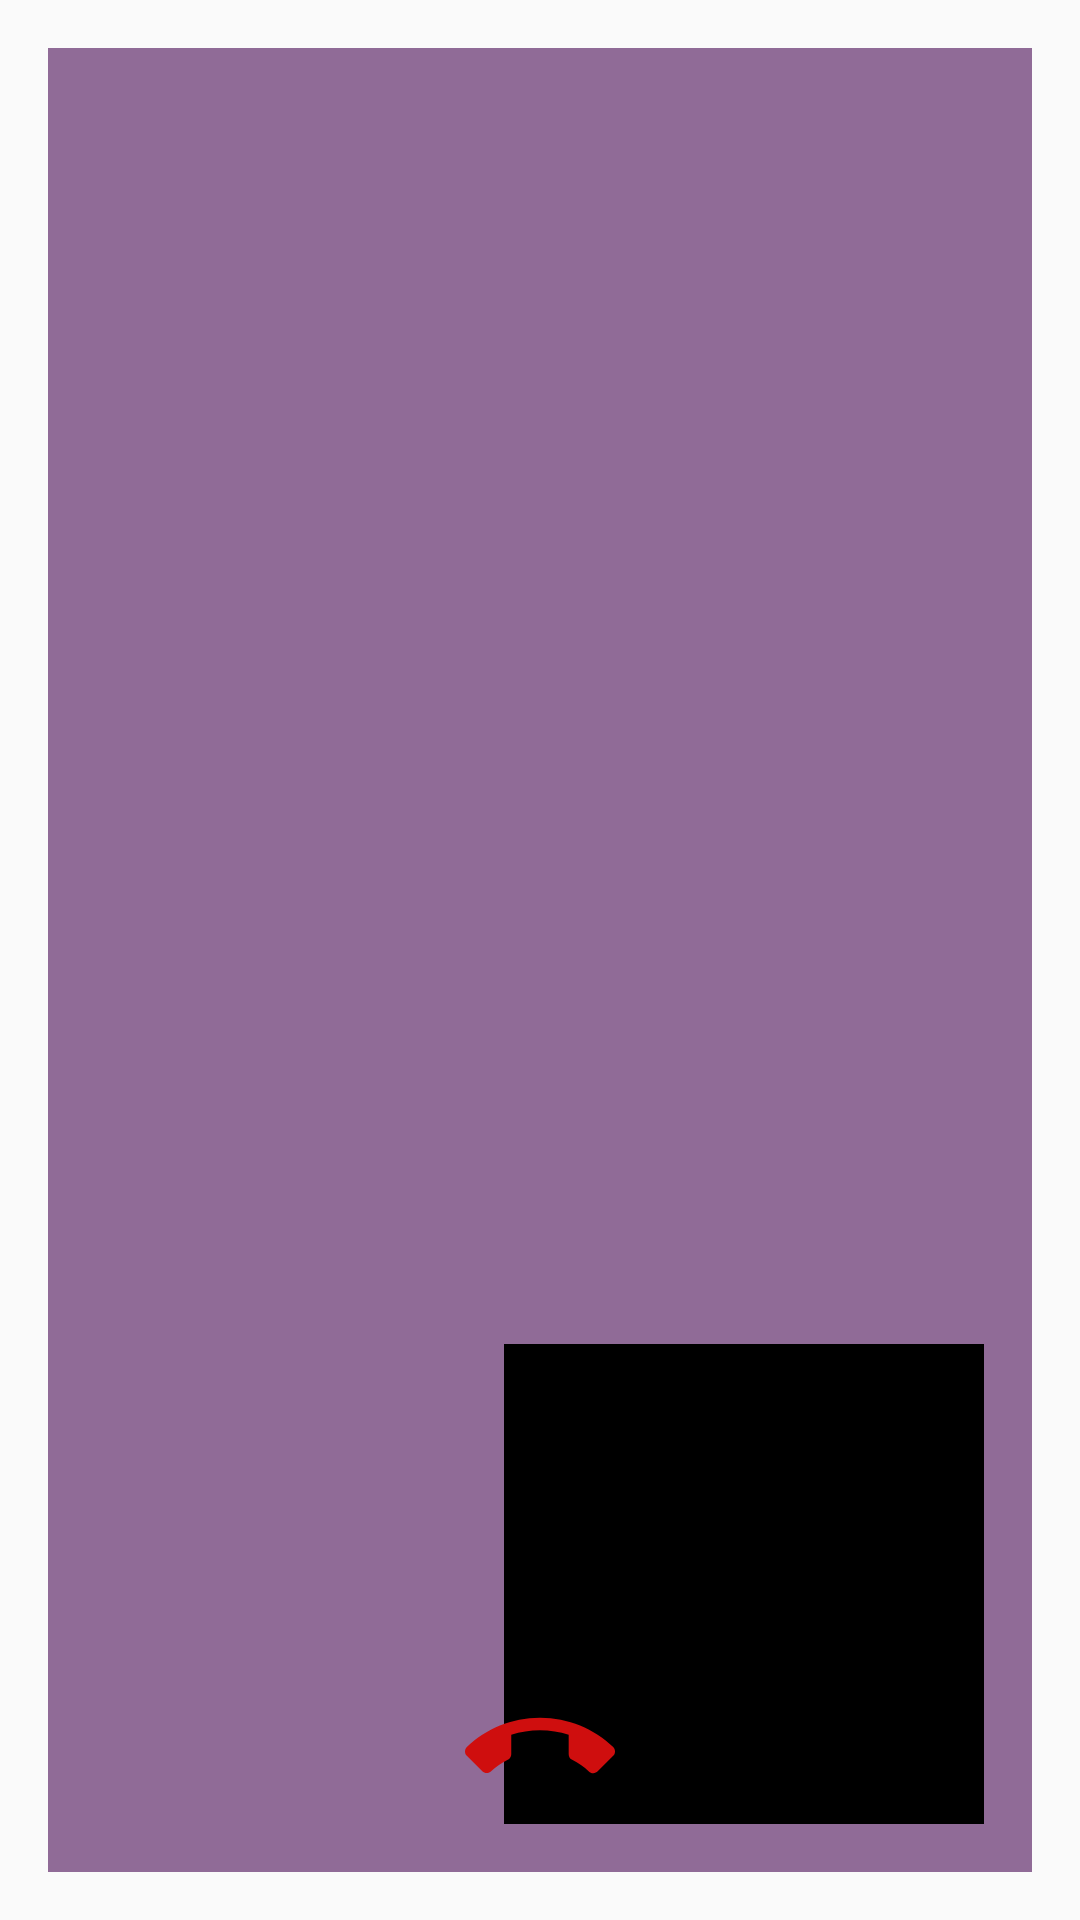

Icons on this 1080×1920 Android screen, each with the point to tap as (x,y):
endcallimg: (540,1749)
